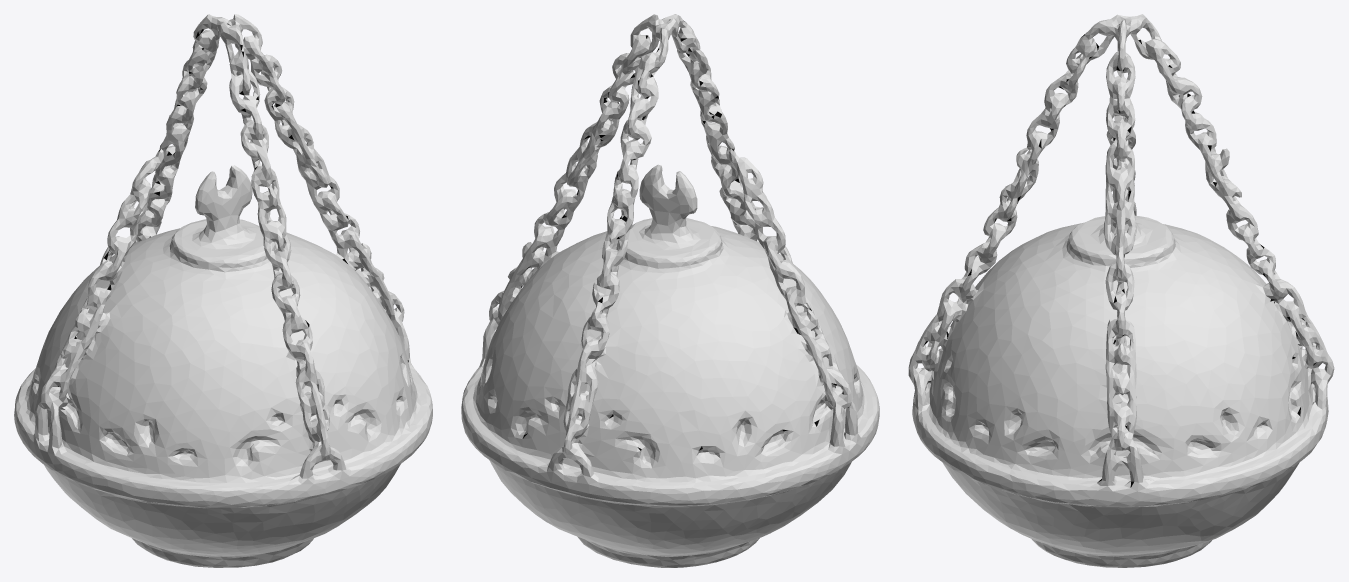
Rendered from rit_censer_chain01.glb.
3 renders of one model, left to right at view 1: azimuth 30°, elevation 25°; view 2: azimuth 150°, elevation 25°; view 3: azimuth 270°, elevation 25°, orthographic.
Visible parts, largest first — view 1: Low; view 2: Low; view 3: Low.
Boxes of the visible parts, x1,y1,x2,y2 form: Low: (14, 14, 432, 567); Low: (461, 14, 879, 567); Low: (908, 14, 1334, 567).
Size of the model in its own units: 1.47 by 1.99 by 1.48.
Materials: 1 (1 with a texture image).
